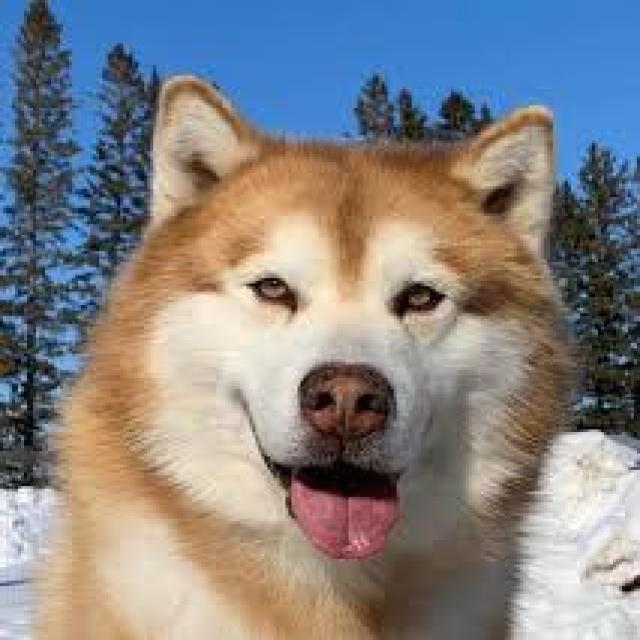ALASKAN_MALAMUTE: (30, 46, 595, 640)
